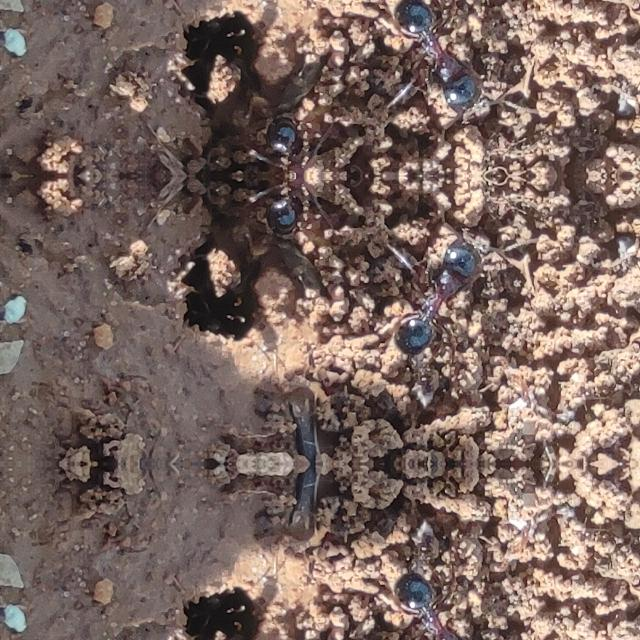Messor: (382, 238, 482, 358), (382, 0, 481, 114), (382, 570, 481, 640)
